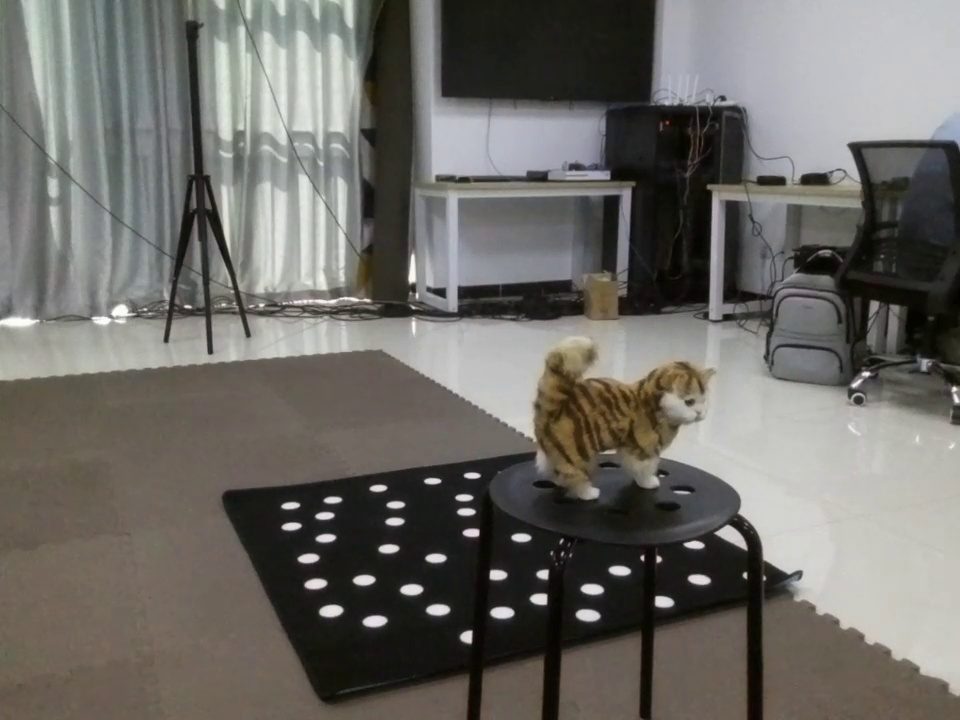cat: (505, 332, 726, 502)
